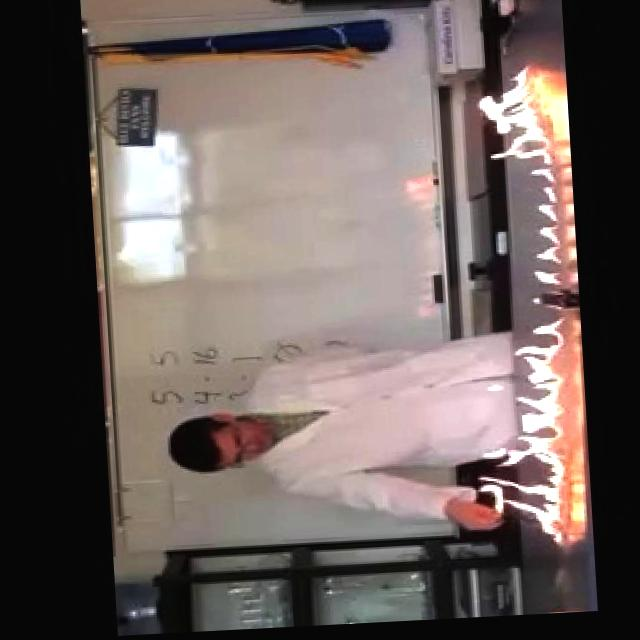Fire: (467, 321, 573, 560), (466, 68, 553, 170), (504, 174, 565, 293)
